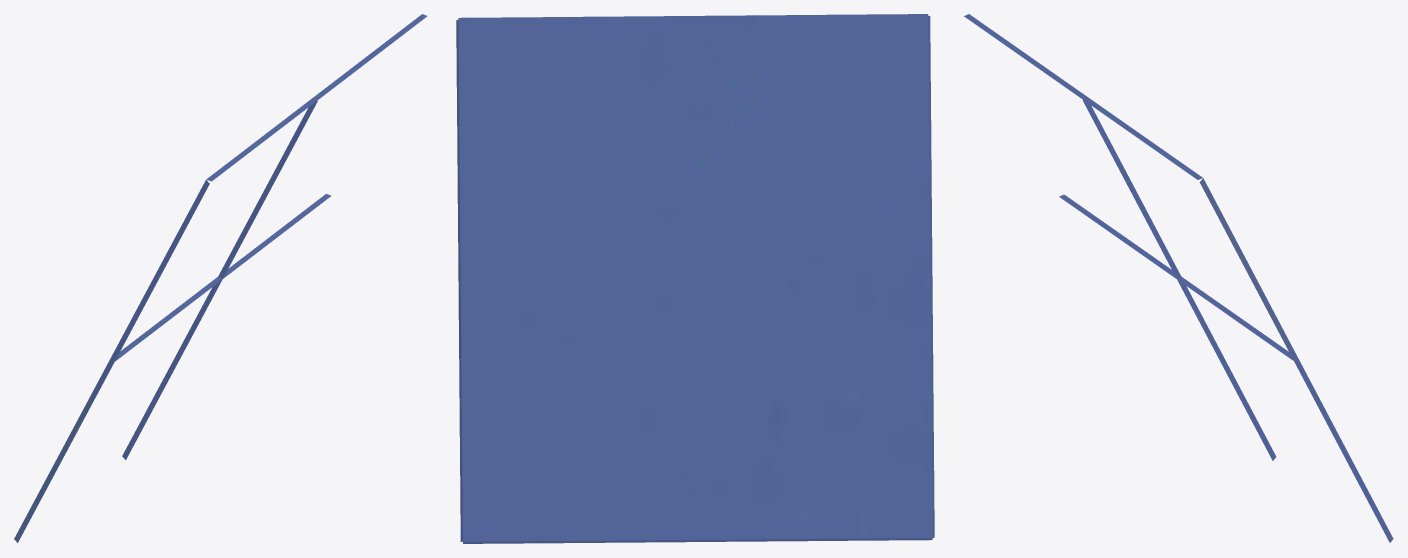
3 renders of one model, left to right at view 1: azimuth 30°, elevation 25°; view 2: azimuth 150°, elevation 25°; view 3: azimuth 270°, elevation 25°, orthographic. The views are drawn at different scales.
Size of the model in its own units: 39499 by 35523 by 33487.
Materials: 1 (1 with a texture image).
